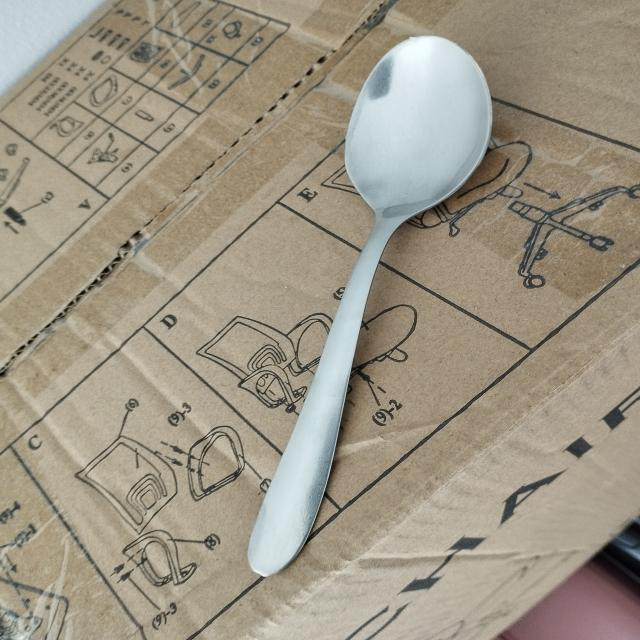Spoon: (216, 24, 507, 590)
